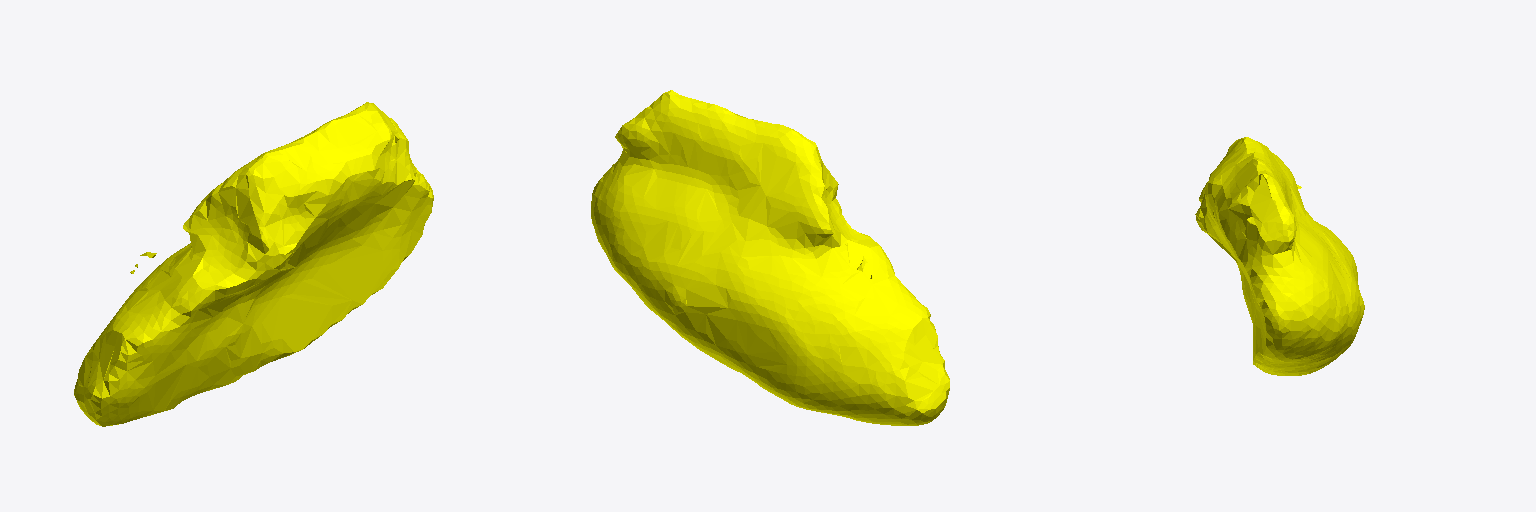
The model's file is Model_10021_LH__Olfactry_tubercle_(Tu).obj.
The picture shows the model from 3 angles: view 1: azimuth 30°, elevation 25°; view 2: azimuth 150°, elevation 25°; view 3: azimuth 270°, elevation 25°; orthographic projection.
Bounding box in the file's own units: 3.47 × 2.53 × 1.45.